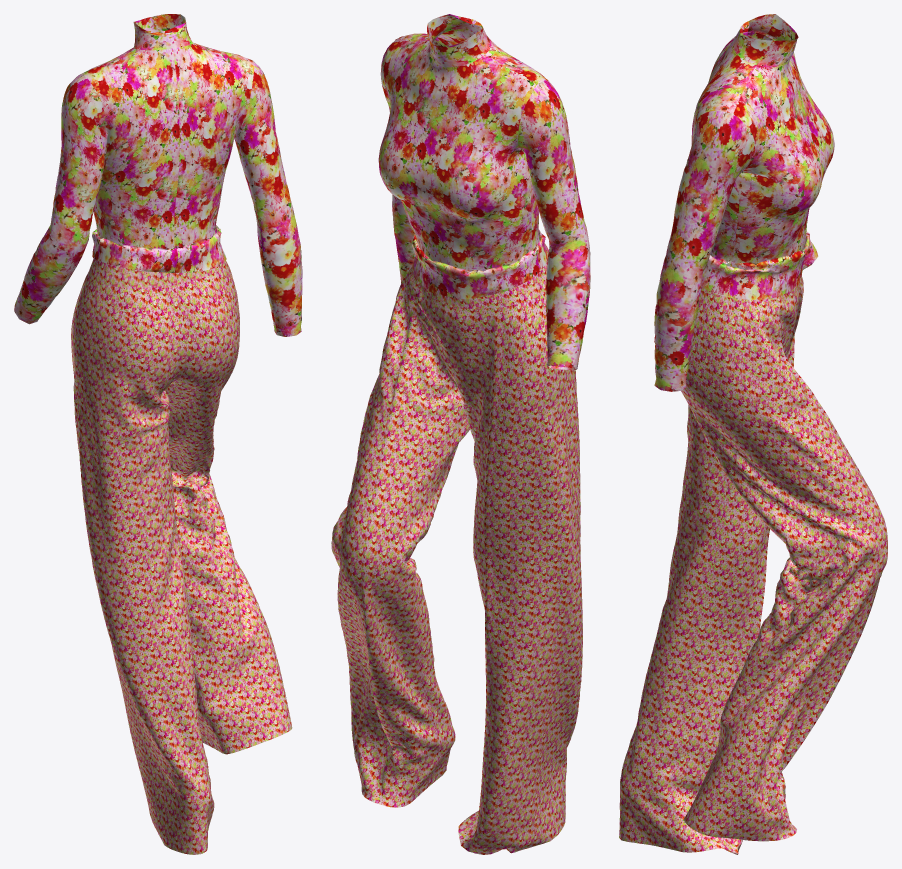
File: DA_HighNeck+WidePants_0000184.obj
3 renders of one model, left to right at view 1: azimuth 30°, elevation 25°; view 2: azimuth 150°, elevation 25°; view 3: azimuth 270°, elevation 25°, orthographic. The views are drawn at different scales.
Size of the model in its own units: 0.5107 by 1.64 by 0.4798.
